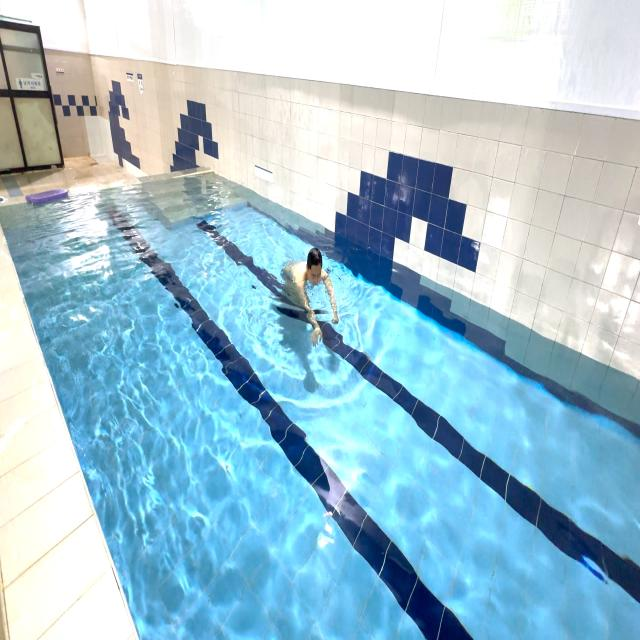Swimming: (276, 226, 348, 356)
